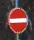No entry: (6, 5, 29, 35)
